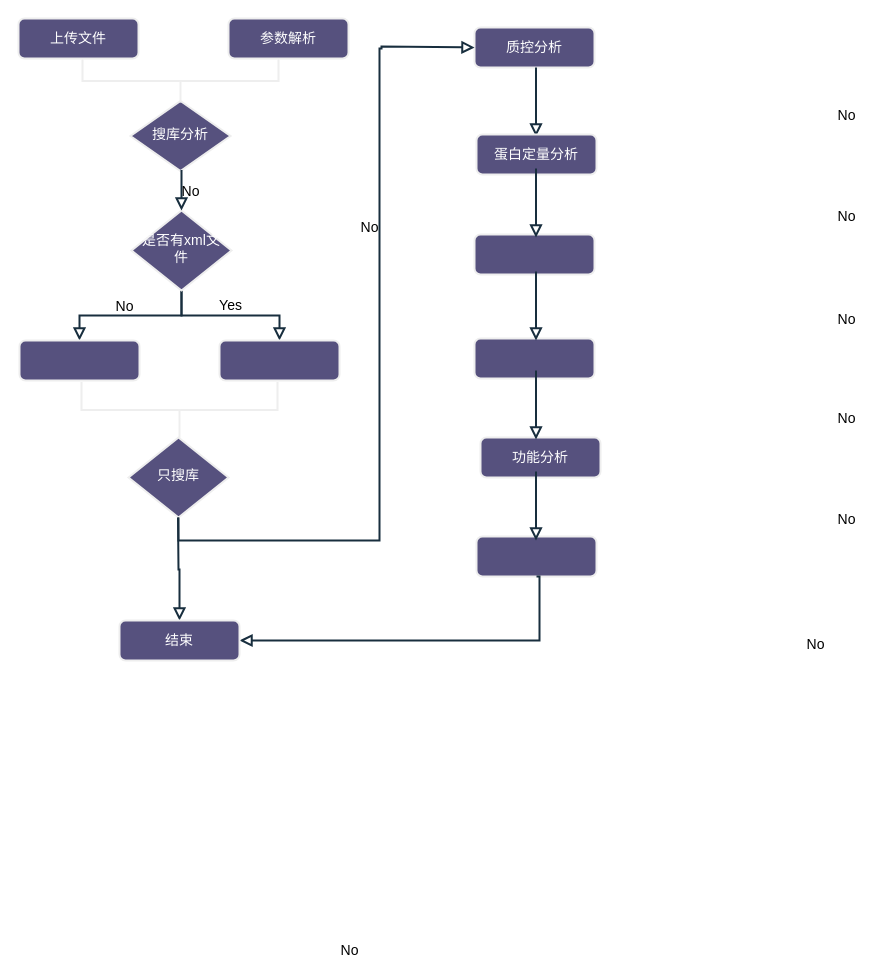
Image size: 872x976. Some labels were removed from this diagram. The centre of each missing label's shape, as x and y in pixels:
使用个性化xml分析: point 279,360
差异蛋白分析: point 534,358
报告: point 536,556
样本水平分析: point 534,254
调用 模板分析: point 79,360
